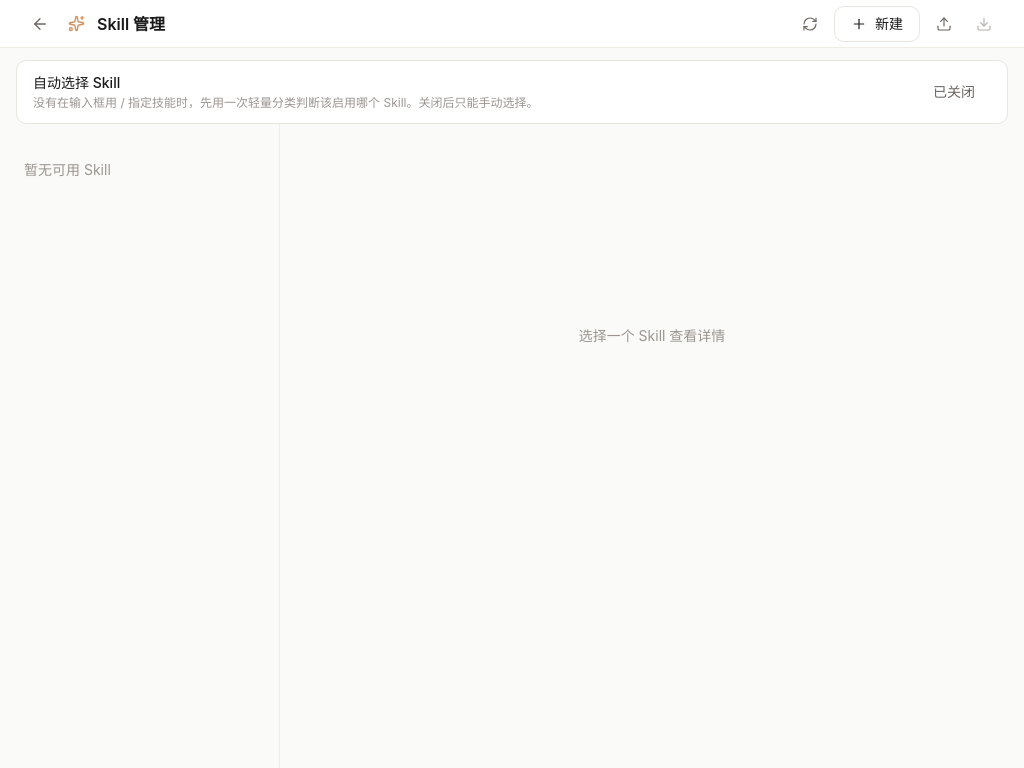
it: SkillsPage import › imports a zip selected through the native Tauri file dialog
The image size is (1024, 768).
Click the button named "导入 Skill ZIP". click: (944, 24)
box: [928,8,960,40]
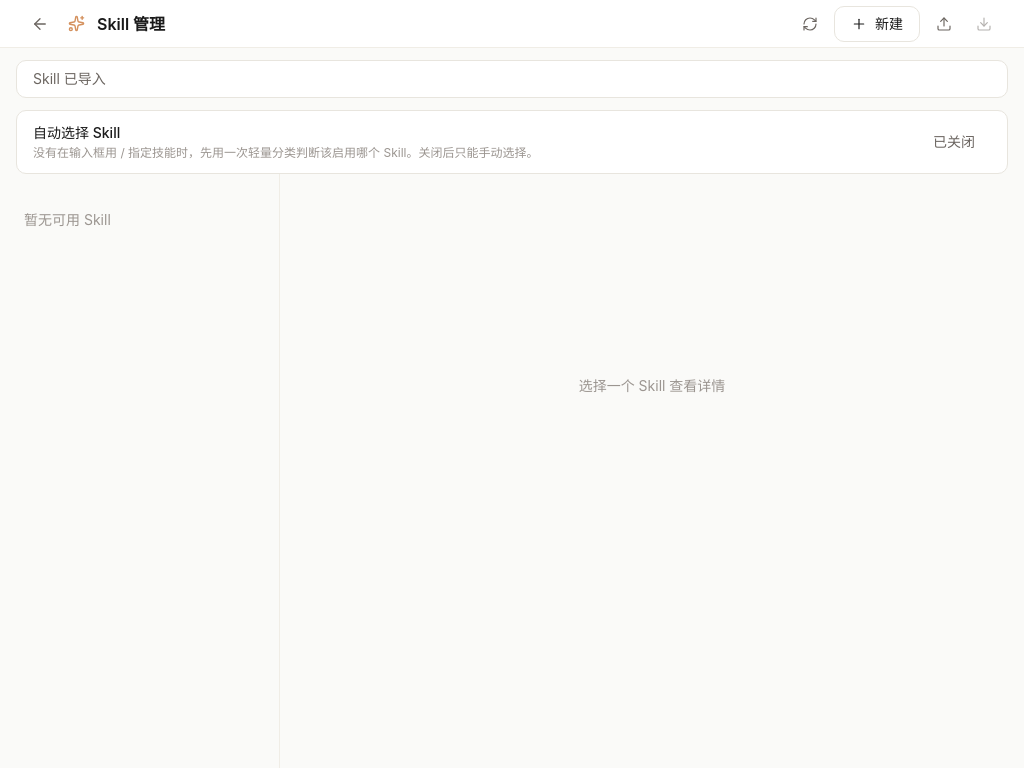
Expected: the text "Skill 已导入" is shown, [16,60,1008,98]
